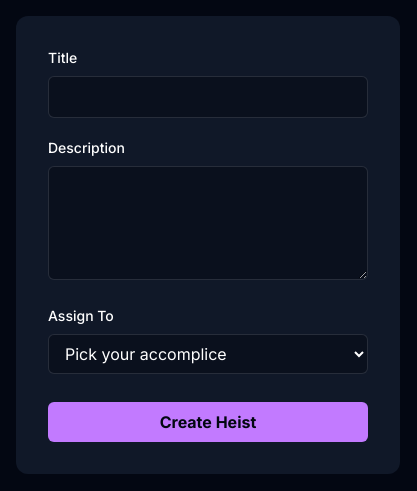
Test: CreateHeistForm › disables the submit button while the heist is being created
Type "Liberate the good stapler" into the field labelled "Title".
click(208, 97); type("Liberate the good stapler")  # box [48,76,368,118]
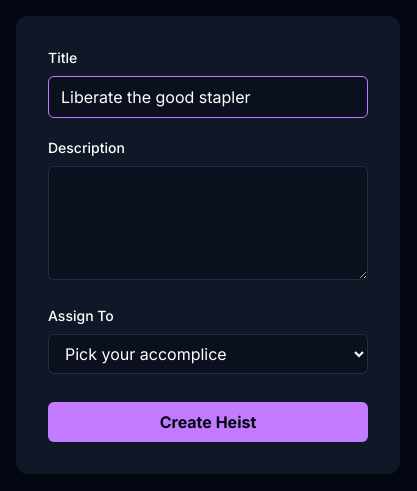
Type "Third desk from the window." into the text box labelled "Description".
click(208, 223); type("Third desk from the window.")  # box [48,166,368,280]
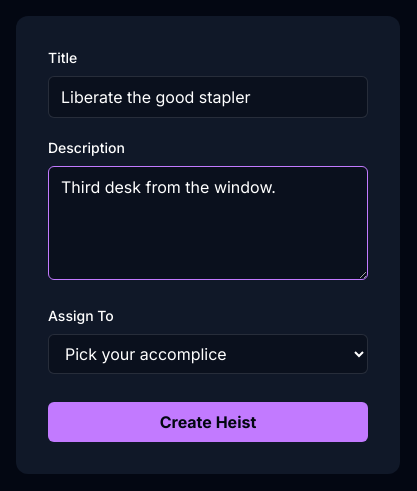
Select "QuietMidnightCrow" in the dropdown labelled "Assign To" at (208, 354), box [48,334,368,374]
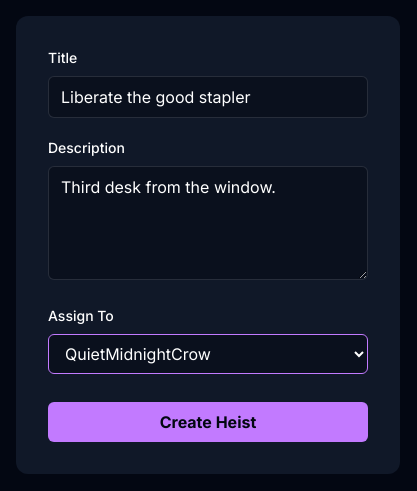
Click the button "Create Heist".
click(208, 422)  # box [48,402,368,442]
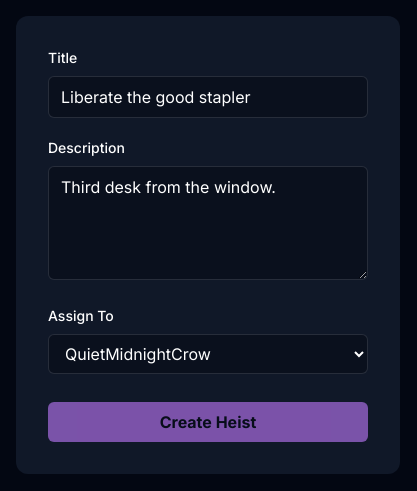
Result: the button "Create Heist" is disabled at [48,402,368,442]
